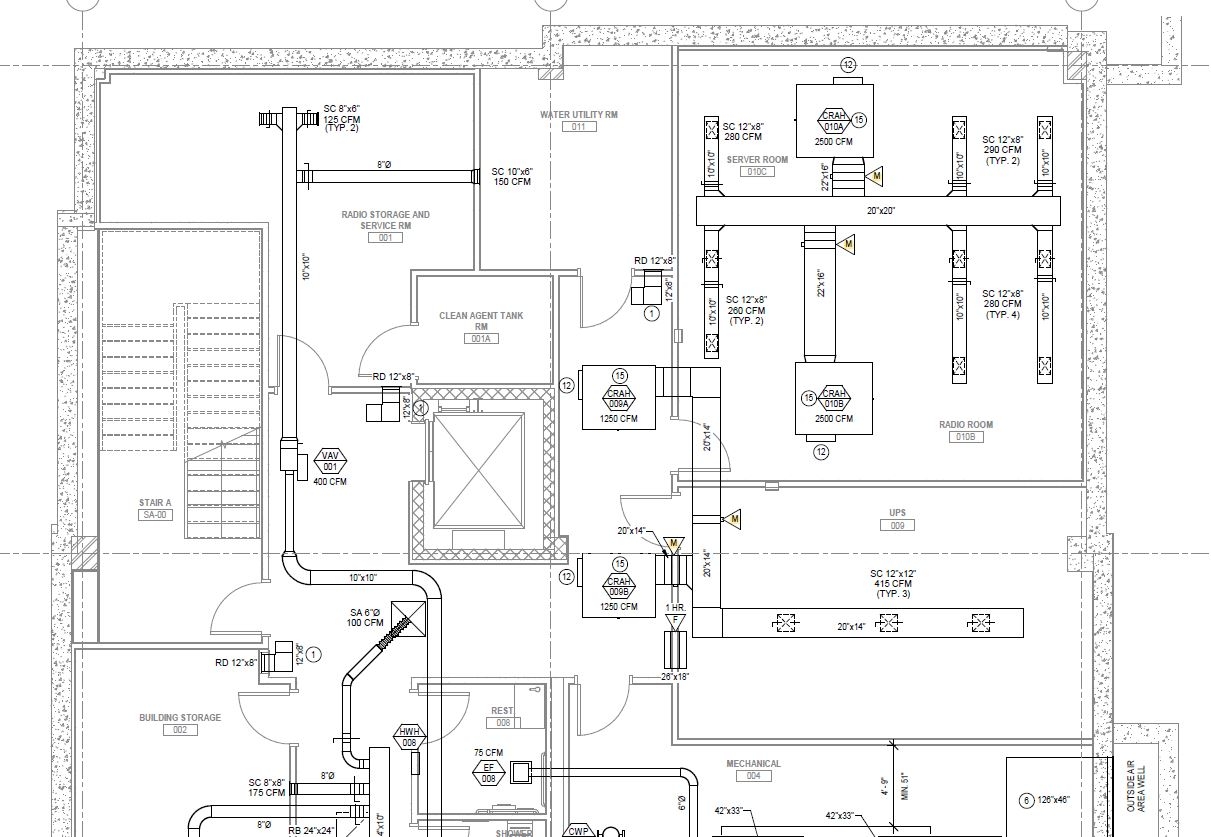VAV Boxes: (277, 419, 318, 487)
